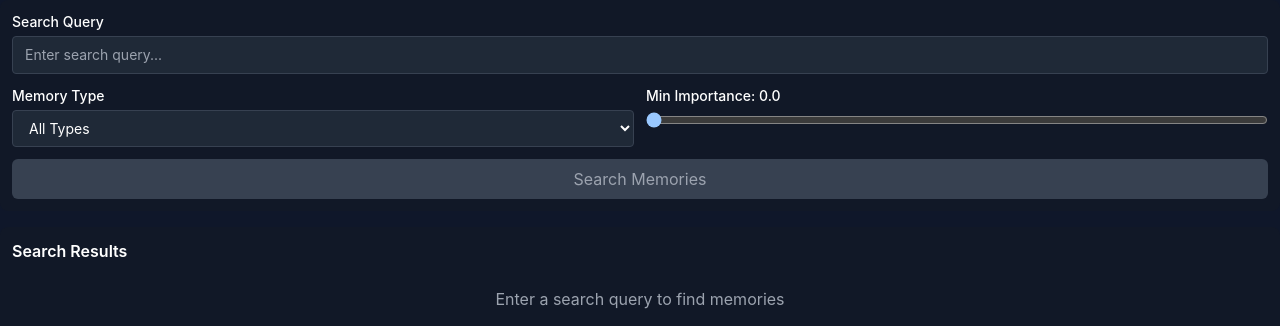
Test case: MemorySearchInterface › disables search button when query is empty
Expected: the button "Search Memories" is disabled, [12,159,1268,199]
Enter a query
Type "test query" into the field with placeholder "Enter search query..." at (640, 55), box [12,36,1268,74]
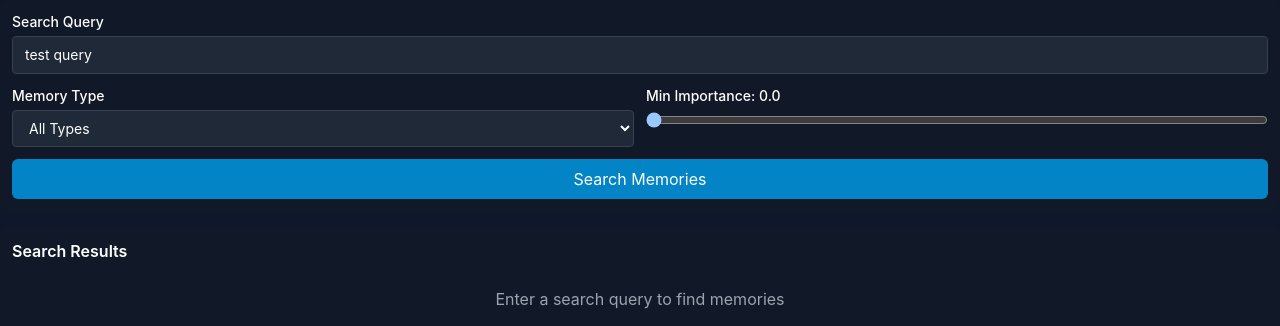
Expected: the button "Search Memories" is enabled, [12,159,1268,199]
